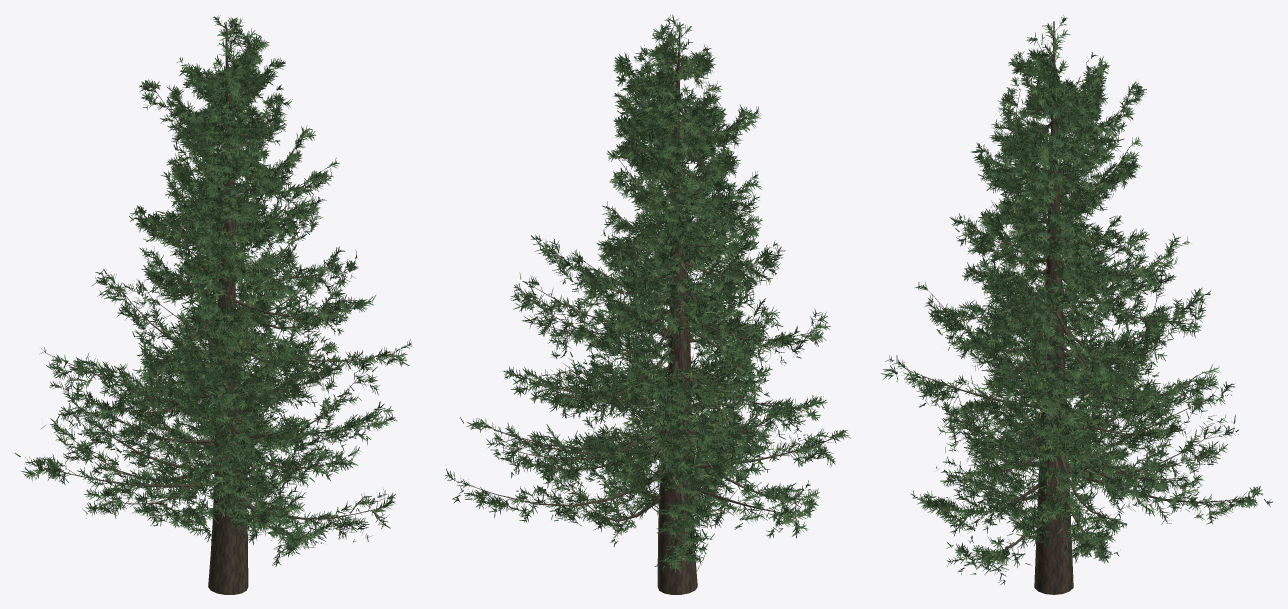
File: fir_mid.glb
3 views of the same model, side by side, from view 1: azimuth 30°, elevation 25°; view 2: azimuth 150°, elevation 25°; view 3: azimuth 270°, elevation 25° (orthographic).
Visible parts, largest first — view 1: BranchingFir218.003, BranchingFir218.004, BranchingFir218.002, BranchingFir218.001, BranchingFir218; view 2: BranchingFir218.003, BranchingFir218.002, BranchingFir218.004, BranchingFir218.001, BranchingFir218; view 3: BranchingFir218.003, BranchingFir218.004, BranchingFir218.002, BranchingFir218.001, BranchingFir218.
Boxes of the visible parts, box(x1,y1,x2,y2) form: BranchingFir218.003: box(21, 15, 411, 565); BranchingFir218.004: box(23, 15, 412, 563); BranchingFir218.002: box(15, 18, 405, 566); BranchingFir218.001: box(33, 21, 405, 594); BranchingFir218: box(25, 17, 406, 555); BranchingFir218.003: box(445, 14, 848, 572); BranchingFir218.002: box(447, 17, 848, 573); BranchingFir218.004: box(457, 23, 845, 570); BranchingFir218.001: box(452, 22, 843, 594); BranchingFir218: box(457, 15, 850, 562); BranchingFir218.003: box(881, 17, 1262, 582); BranchingFir218.004: box(889, 15, 1256, 584); BranchingFir218.002: box(883, 29, 1272, 574); BranchingFir218.001: box(891, 21, 1254, 594); BranchingFir218: box(896, 22, 1252, 572).
Bounding box in the file's own units: 5.94 × 9.07 × 5.7.
Materials: 5 (1 with a texture image).
